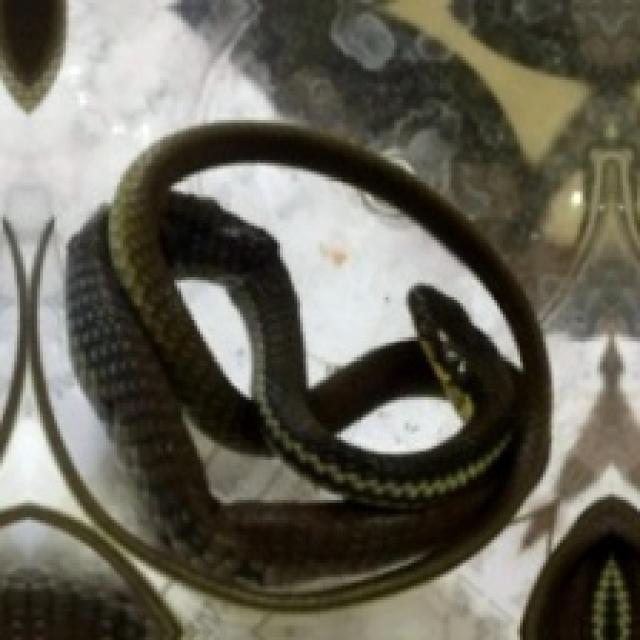philippine bronzeback treesnake: (69, 123, 549, 603)
